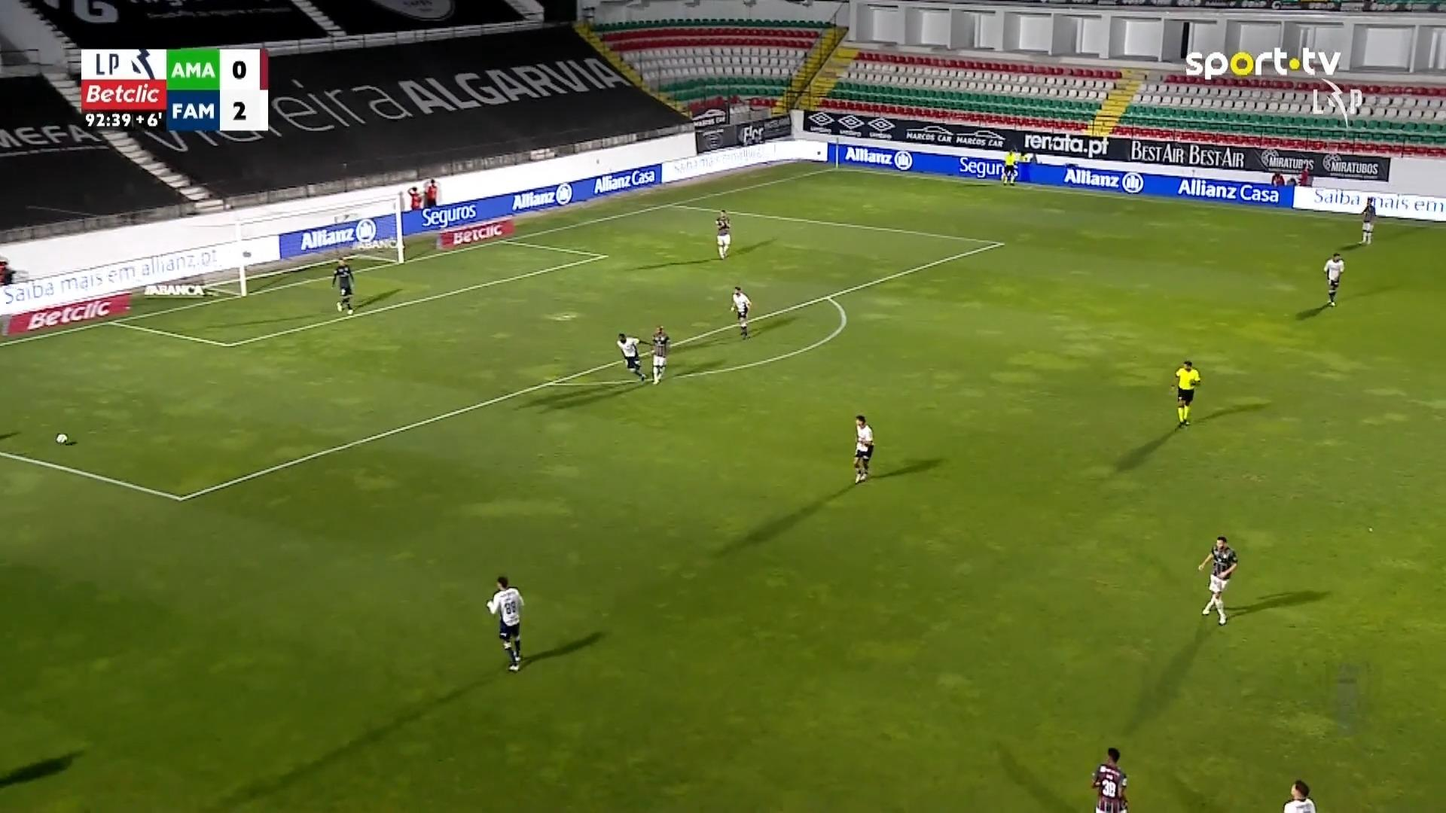ball: (55, 433, 66, 444)
goalkeeper: (331, 256, 355, 315)
player: (485, 574, 524, 671), (1197, 534, 1238, 625), (1091, 746, 1129, 811), (615, 331, 648, 382), (852, 414, 874, 483), (649, 324, 670, 385), (729, 285, 752, 340), (1322, 251, 1344, 306), (1283, 778, 1316, 811), (714, 209, 731, 260), (1359, 196, 1376, 245)
referee: (1173, 359, 1200, 428), (1000, 147, 1020, 186)
